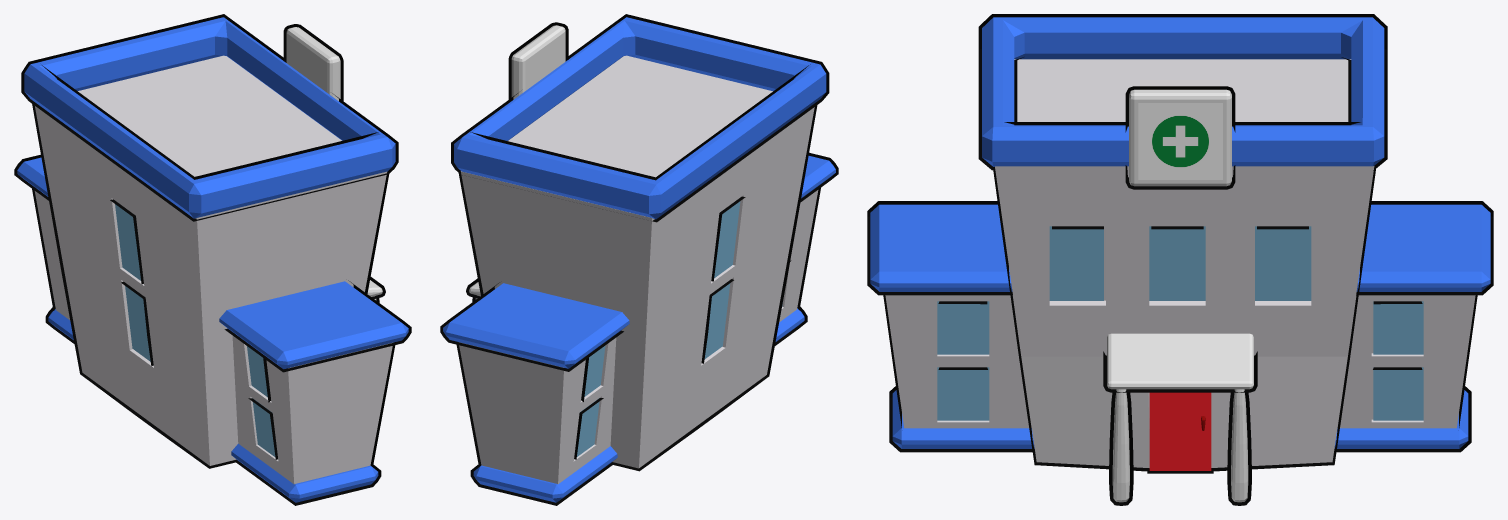
File: Hospital.glb
The picture shows the model from 3 angles, left to right: view 1: azimuth 30°, elevation 25°; view 2: azimuth 150°, elevation 25°; view 3: azimuth 270°, elevation 25°; orthographic projection. The views are drawn at different scales.
Visible parts, largest first — view 1: Hospital, Shadow; view 2: Hospital, Shadow; view 3: Hospital, Shadow.
Part boxes in pixels (x1,y1,x2,y2): Hospital: (17,17,408,502); Shadow: (14,14,411,505); Hospital: (443,17,835,502); Shadow: (440,14,838,505); Hospital: (870,17,1490,502); Shadow: (867,14,1493,505).
Bounding box in the file's own units: 18.99 × 24.99 × 35.57.
9 materials, 7 textured.
